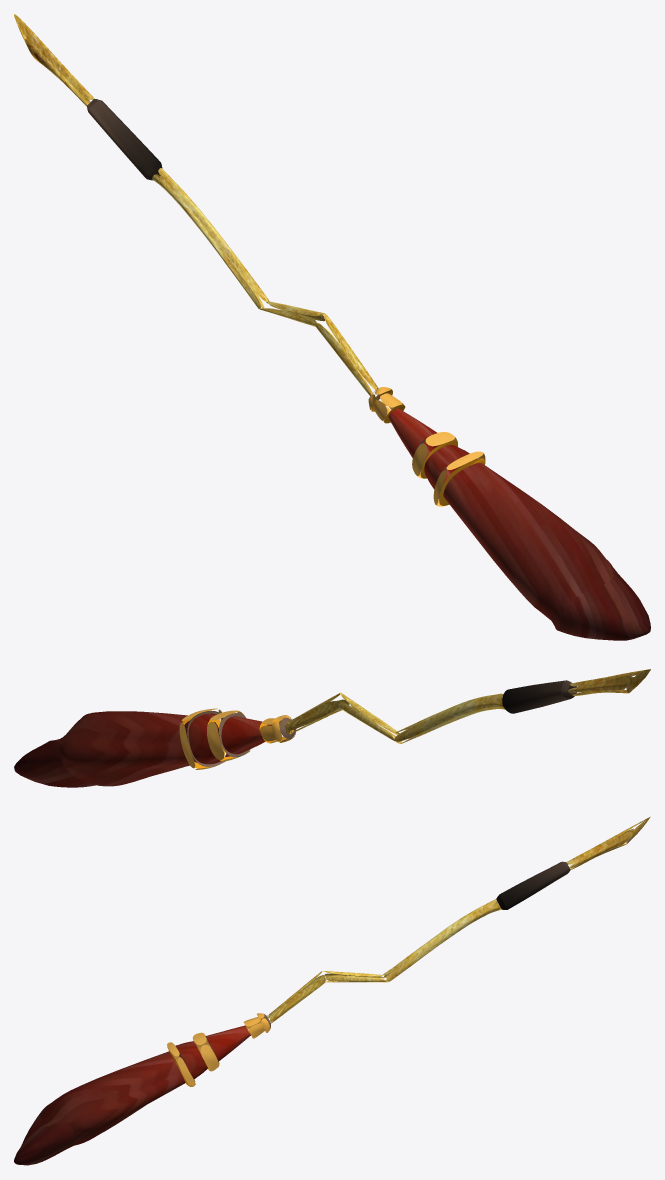
Rendered from goldBirch.glb.
3 views of the same model, one above another, from view 1: azimuth 30°, elevation 25°; view 2: azimuth 210°, elevation 25°; view 3: azimuth 270°, elevation 25° (orthographic). The views are drawn at different scales.
Parts seen in each view (by area): view 1: MainStick; view 2: MainStick; view 3: MainStick.
Part boxes in pixels (x1,y1,x2,y2): MainStick: (14,14,650,640); MainStick: (14,669,650,787); MainStick: (14,817,650,1165).
Bounding box in the file's own units: 4.77 × 7.8 × 16.2.
1 material, 1 textured.
